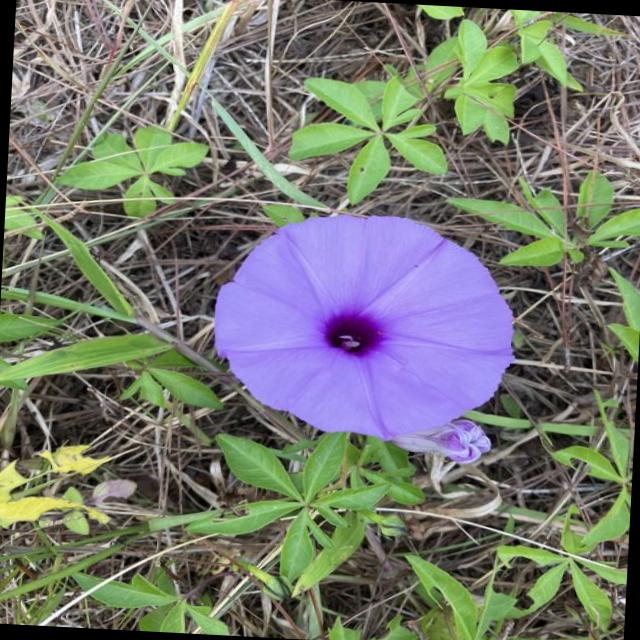ipomoea: (204, 204, 526, 451)
